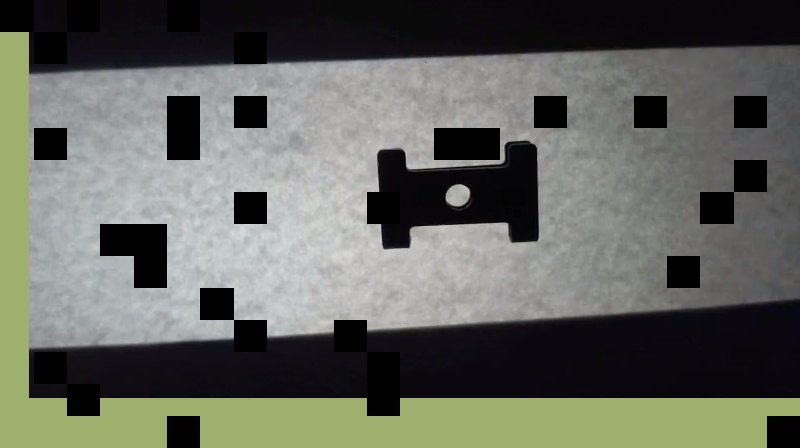O002: (374, 136, 542, 252)
